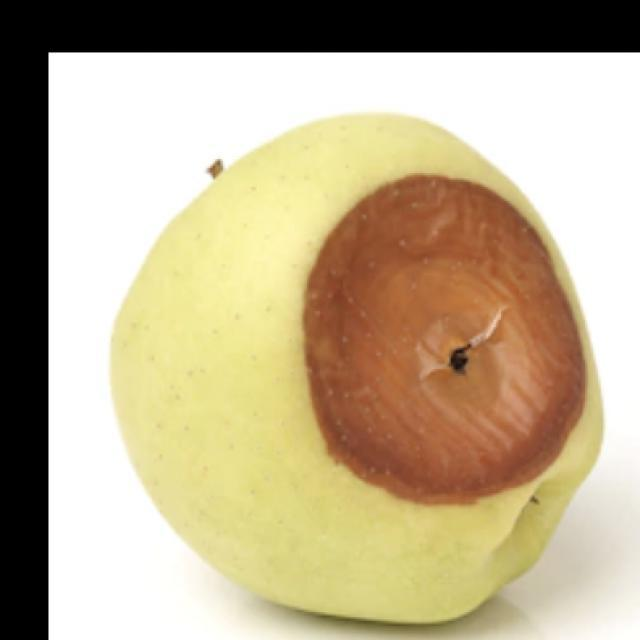Rotten: (120, 113, 600, 640)
